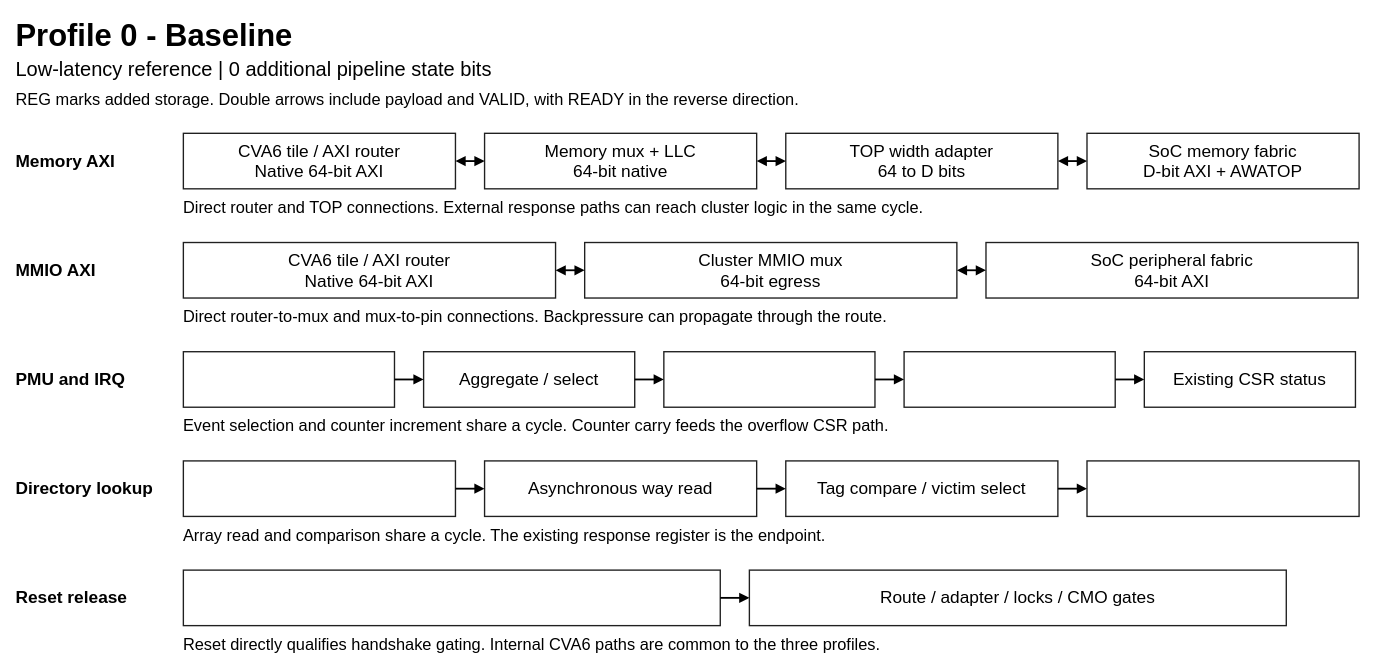
This 1375x670 diagram has some shape labels left out. Each missing label, with the box of its shape:
CCU lookup request: (182, 460, 456, 517)
Event taps / config: (182, 351, 395, 407)
Existing counter bank: (663, 351, 875, 407)
Existing response register: (1086, 460, 1359, 517)
External reset pin: (182, 569, 721, 626)
Wrap / IRQ logic: (903, 351, 1115, 407)
